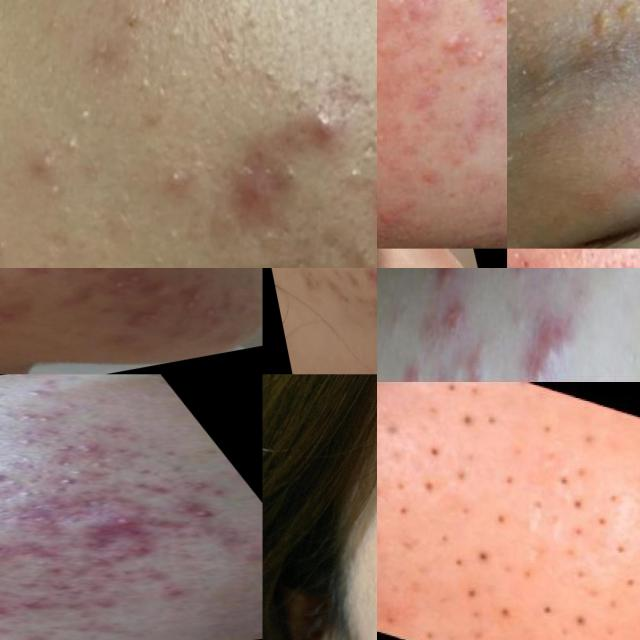acne_scars: (0, 301, 24, 332), (12, 268, 68, 281)
comedone: (528, 452, 630, 517), (548, 483, 623, 554), (378, 463, 446, 526), (545, 595, 640, 640), (432, 48, 487, 116), (448, 397, 510, 444), (592, 564, 640, 621), (524, 587, 570, 634), (411, 430, 458, 471), (520, 411, 567, 452), (162, 0, 189, 63), (450, 572, 490, 614), (484, 595, 526, 631), (464, 539, 504, 573), (11, 410, 66, 434), (482, 503, 517, 537), (348, 152, 370, 205), (492, 464, 527, 494), (164, 166, 198, 194), (0, 487, 54, 504), (449, 461, 479, 491), (18, 384, 54, 405), (43, 475, 93, 489), (54, 463, 94, 479), (73, 104, 92, 134), (48, 441, 82, 453), (6, 437, 33, 448)
cystic: (531, 298, 580, 378)
papule: (64, 505, 172, 545), (151, 498, 228, 527), (49, 591, 132, 616), (0, 533, 66, 564), (90, 537, 164, 564), (439, 290, 470, 345), (0, 589, 64, 614), (19, 556, 78, 579), (240, 169, 268, 212), (143, 584, 199, 604), (0, 600, 30, 626), (358, 268, 377, 307)
pustule: (301, 104, 344, 153), (427, 268, 458, 314), (462, 338, 490, 382), (394, 347, 422, 382), (520, 356, 551, 382)
sebo-crystan-conglo: (101, 272, 164, 307), (109, 303, 175, 336), (164, 278, 218, 318), (442, 293, 470, 348)
